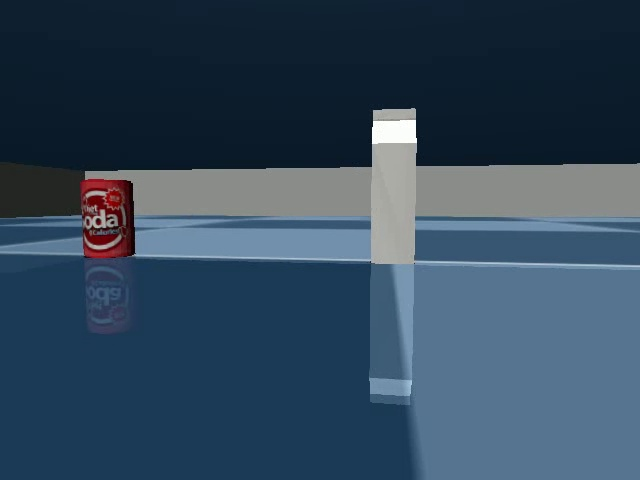can: (76, 173, 143, 263)
milk: (365, 99, 424, 273)
